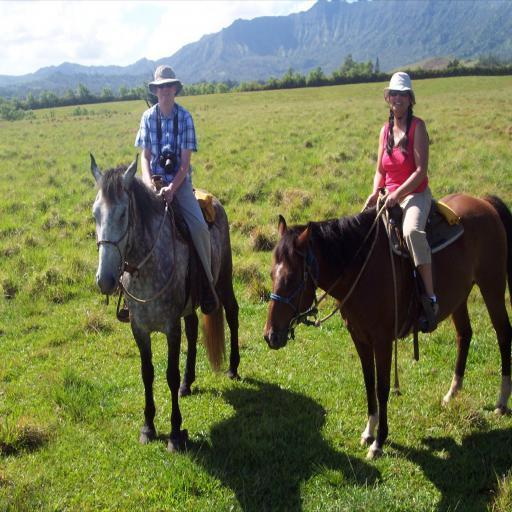horse: (264, 196, 512, 462), (92, 156, 240, 455)
